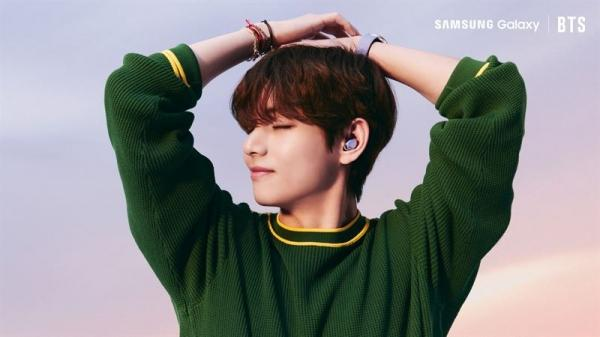earphone: (343, 134, 358, 154)
